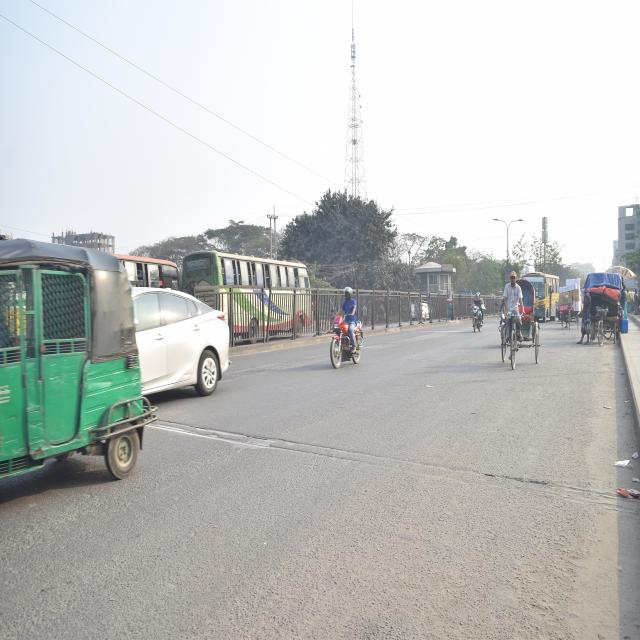bus: (528, 268, 560, 328)
car: (135, 278, 234, 421)
motorbike: (320, 296, 370, 380), (464, 289, 486, 338)
